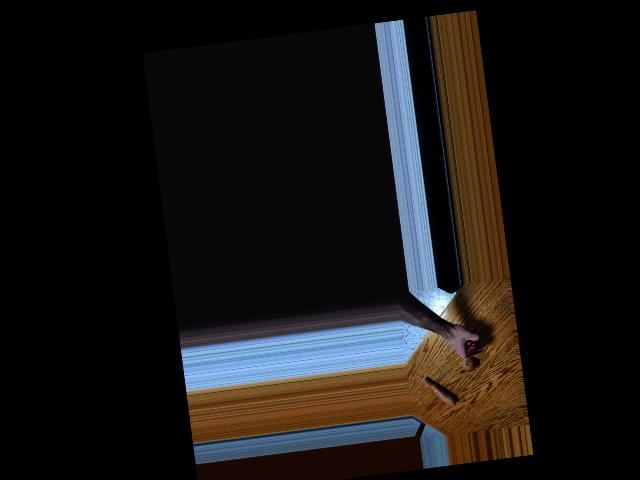onion: (460, 354, 478, 373)
